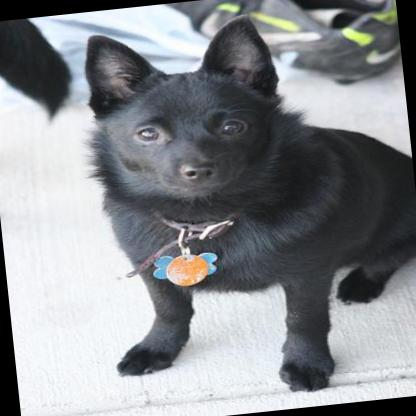schipperke: (63, 0, 416, 410)
